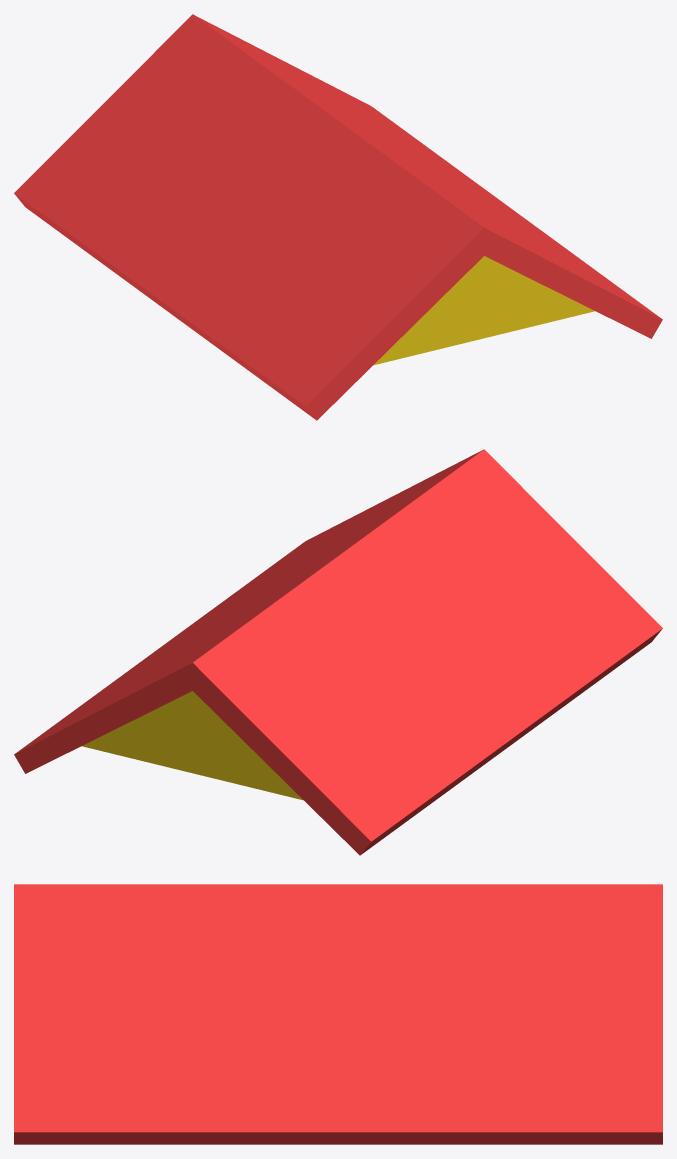
The model's file is Town_Bld-sm_Roof-Triangle.FBX.
3 renders of one model, top to bottom at view 1: azimuth 30°, elevation 25°; view 2: azimuth 150°, elevation 25°; view 3: azimuth 270°, elevation 25°, orthographic. The views are drawn at different scales.
Visible parts, largest first — view 1: Town_Bld-sm_Roof-Triangle; view 2: Town_Bld-sm_Roof-Triangle; view 3: Town_Bld-sm_Roof-Triangle.
Boxes of the visible parts, x1=… form: Town_Bld-sm_Roof-Triangle: x1=14, y1=14, x2=662, y2=420; Town_Bld-sm_Roof-Triangle: x1=14, y1=449, x2=662, y2=855; Town_Bld-sm_Roof-Triangle: x1=14, y1=884, x2=662, y2=1144.
Bounding box in the file's own units: 368 × 150 × 521.
